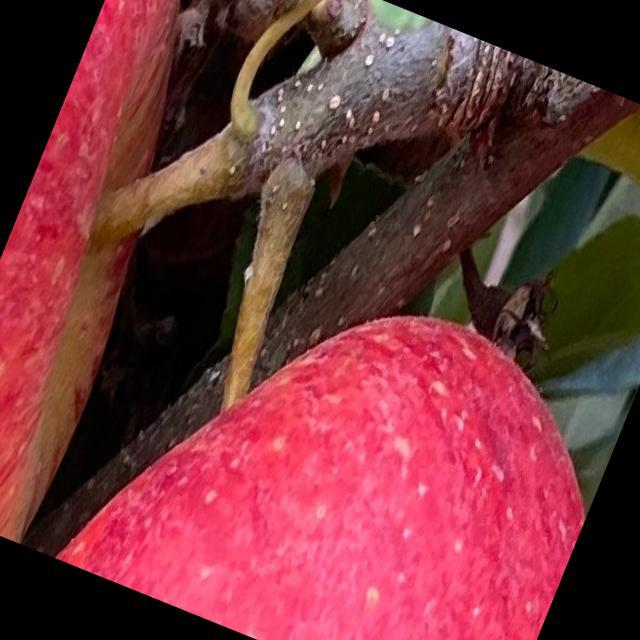100-_ripeness: (55, 218, 634, 639), (0, 0, 269, 546)
